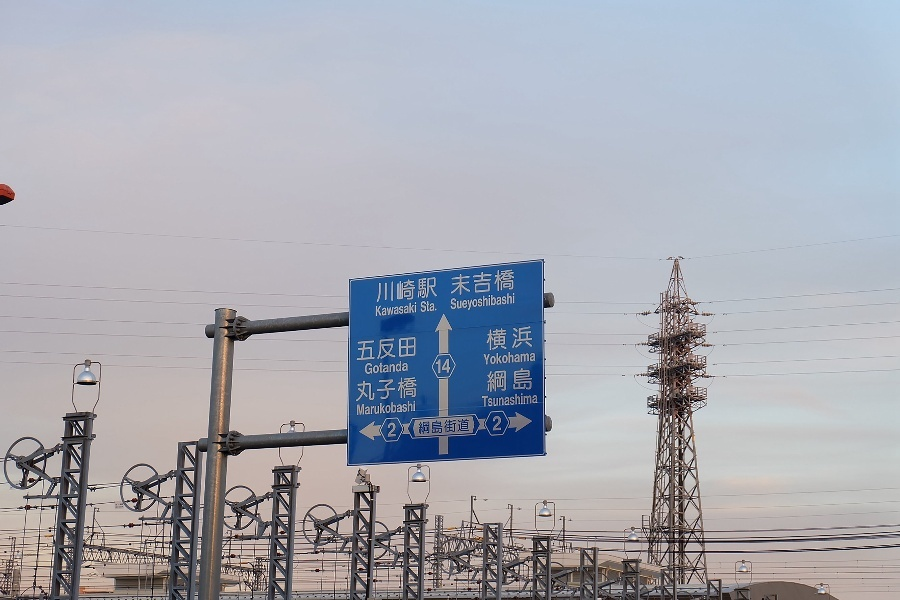text: (465, 269, 480, 297), (481, 269, 496, 297), (497, 269, 512, 297), (401, 377, 417, 403), (401, 336, 417, 361), (385, 277, 400, 303), (401, 277, 416, 303), (417, 277, 432, 303), (369, 377, 384, 403), (385, 377, 400, 403), (497, 367, 512, 393), (513, 367, 528, 393), (369, 336, 384, 361), (385, 336, 400, 361), (497, 326, 512, 351), (513, 326, 528, 351), (452, 269, 464, 297), (465, 292, 480, 314), (481, 292, 496, 314), (497, 292, 512, 314), (451, 292, 464, 314), (357, 377, 368, 403), (433, 418, 448, 435), (449, 418, 464, 435), (358, 336, 368, 361), (401, 302, 417, 317), (487, 367, 496, 393), (385, 302, 400, 317), (369, 360, 384, 375), (385, 360, 400, 375), (369, 401, 384, 416), (385, 401, 400, 416), (401, 401, 416, 416), (487, 326, 496, 351), (497, 392, 512, 407), (513, 392, 528, 407), (419, 418, 432, 435), (497, 352, 512, 366), (513, 352, 528, 366), (482, 392, 496, 407), (388, 422, 400, 438), (377, 277, 384, 303), (483, 352, 496, 366), (436, 359, 448, 374), (357, 401, 368, 416), (529, 392, 539, 407), (420, 301, 432, 313), (433, 277, 438, 303), (529, 367, 534, 393), (376, 302, 384, 317), (401, 360, 409, 375), (529, 326, 533, 351), (529, 352, 536, 366), (497, 415, 502, 432), (465, 418, 469, 435), (433, 301, 438, 313), (364, 360, 368, 375), (513, 269, 515, 297), (493, 415, 496, 432), (513, 292, 515, 314), (449, 359, 451, 374)
